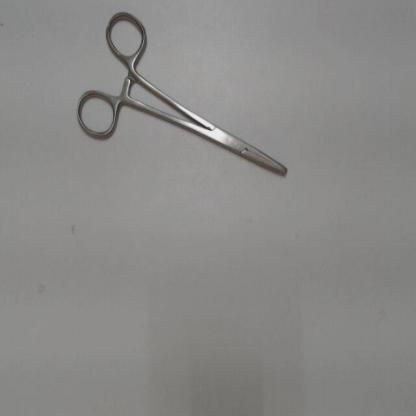Mayo Needle Holder: (68, 4, 297, 191)
